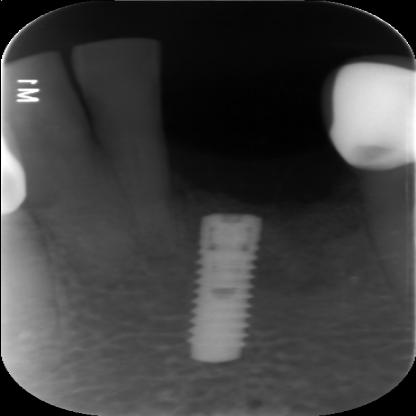ITI: (184, 211, 266, 362)
